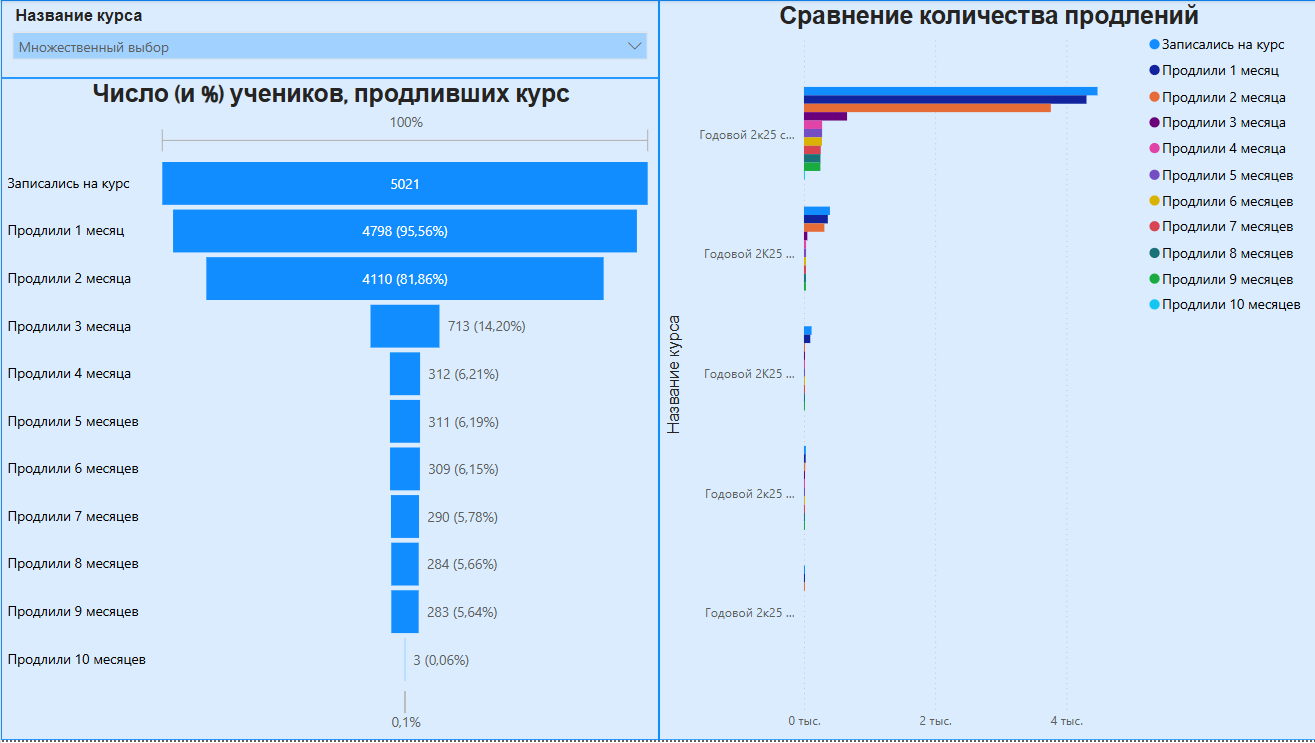

The dashboard page shown, as its layout file describes it:
{"tool":"powerbi","page":{"name":"Course Continuation","canvas":[1920,1080],"ordinal":0},"visuals":[{"type":"funnel","title":"Course Continuation","fields":{"Category":["Continuation Stages.Stage"],"Y":["test_dataset.Students at сontinuation Stage"]},"box":[0,99.2,960,979],"z":0},{"type":"clusteredBarChart","title":"Continuation by Course","fields":{"Category":["test_dataset.course_name"],"Y":["Sum(test_dataset.month_0)","Sum(test_dataset.month_1)","Sum(test_dataset.month_2)","Sum(test_dataset.month_3)","Sum(test_dataset.month_4)","Sum(test_dataset.month_5)","Sum(test_dataset.month_6)","Sum(test_dataset.month_7)","Sum(test_dataset.month_8)","Sum(test_dataset.month_9)","Sum(test_dataset.month_10)"]},"box":[960,0,960,1078.8],"z":1000},{"type":"slicer","fields":{"Values":["test_dataset.course_name"]},"box":[0,0,960,99.2],"z":2000}]}

Visuals, with their boxes in screenshot pixels (x1, y1, x2, y2), scaled from the page's 1920x1080 canvas onto the 1315x743 screenshot:
"Course Continuation" funnel: 0,68,658,742
"Continuation by Course" clusteredBarChart: 658,0,1314,742
slicer - test_dataset.course_name: 0,0,658,68
